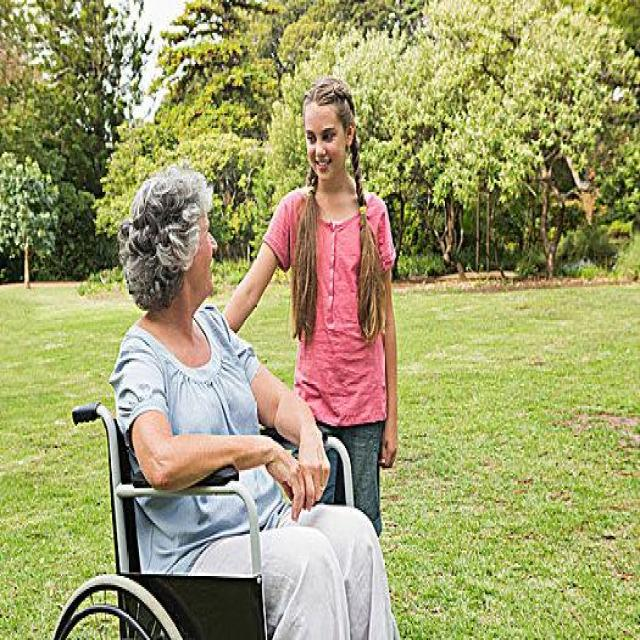wheelchairs: (38, 372, 394, 640)
